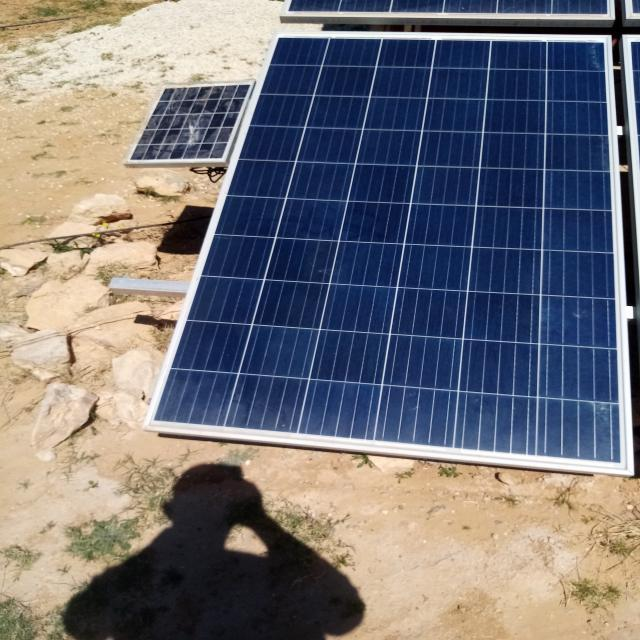faulty: (148, 37, 630, 472), (126, 81, 253, 163)
